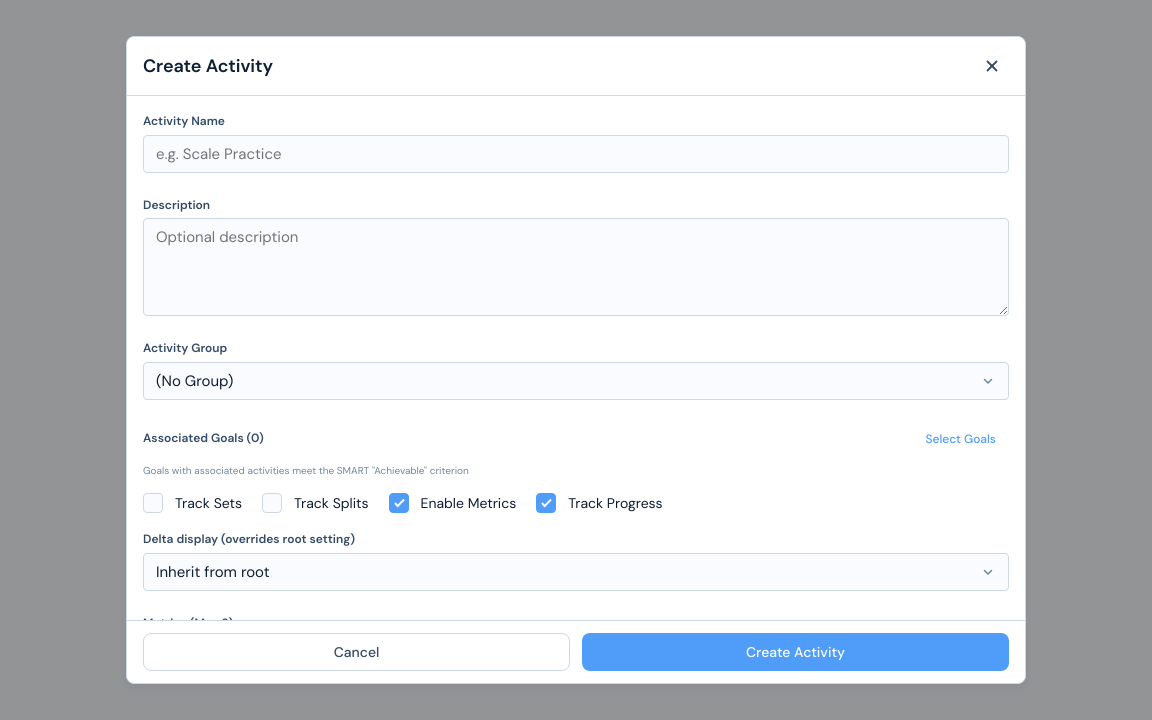
Scenario: ActivityBuilder › updates the modal header from the activity name and renders group before goals
Check: the heading "Create Activity" is shown, box [143,56,273,76]
Type "Scale Practice" into the field labelled "Activity Name" at (576, 154), box [143,135,1009,173]
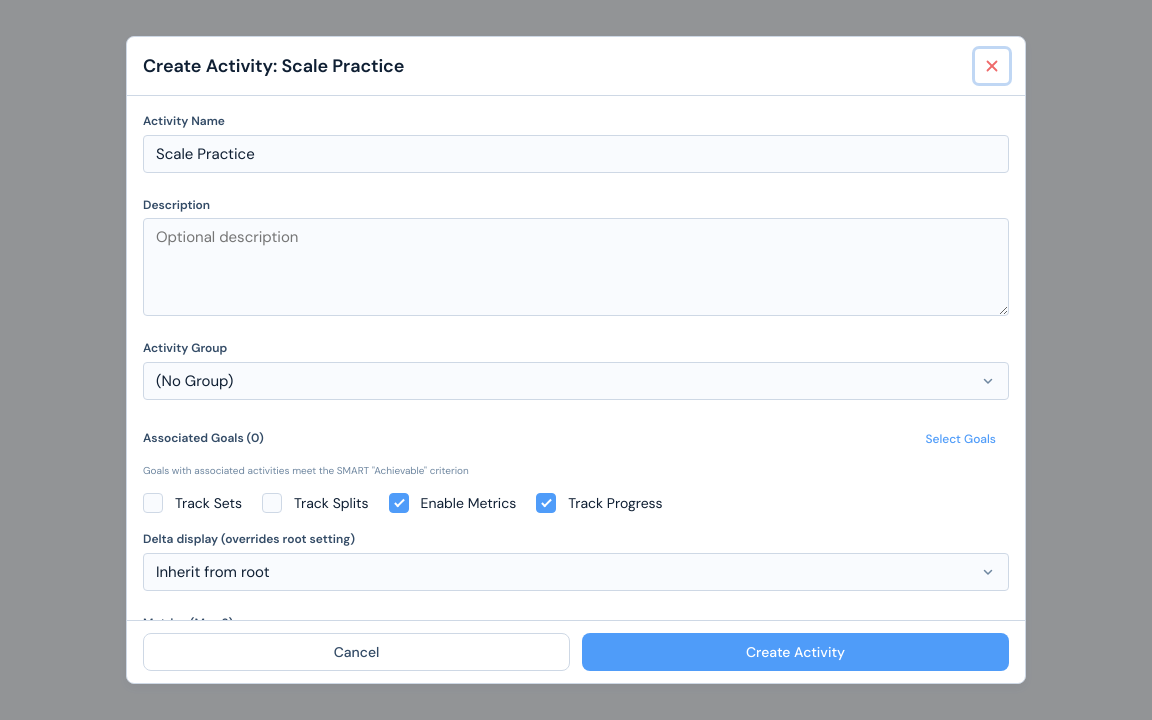
Check: the heading "Create Activity: Scale Practice" is shown, box [143,56,404,76]
